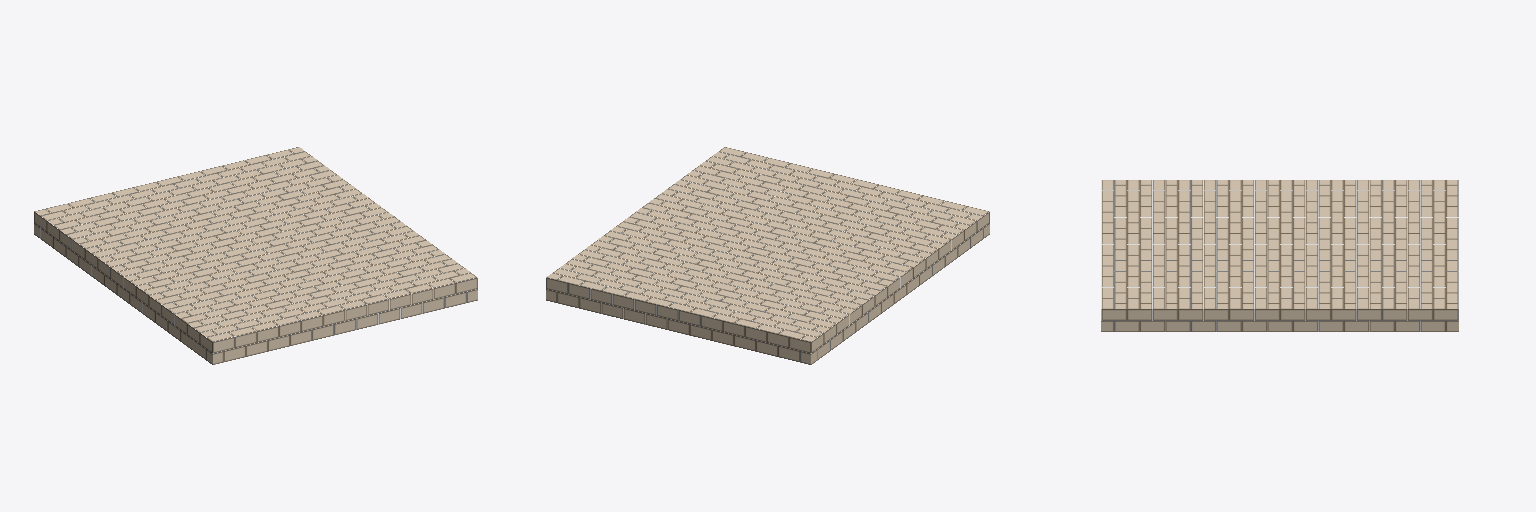
3 views of the same model, side by side, from view 1: azimuth 30°, elevation 25°; view 2: azimuth 150°, elevation 25°; view 3: azimuth 270°, elevation 25° (orthographic).
Parts seen in each view (by area): view 1: Ceiling_S; view 2: Ceiling_S; view 3: Ceiling_S.
Boxes of the visible parts, x1,y1,x2,y2 form: Ceiling_S: [34, 147, 477, 364]; Ceiling_S: [546, 147, 989, 364]; Ceiling_S: [1101, 180, 1458, 331].
Size of the model in its own units: 6 by 0.5 by 7.
Materials: 1 (1 with a texture image).